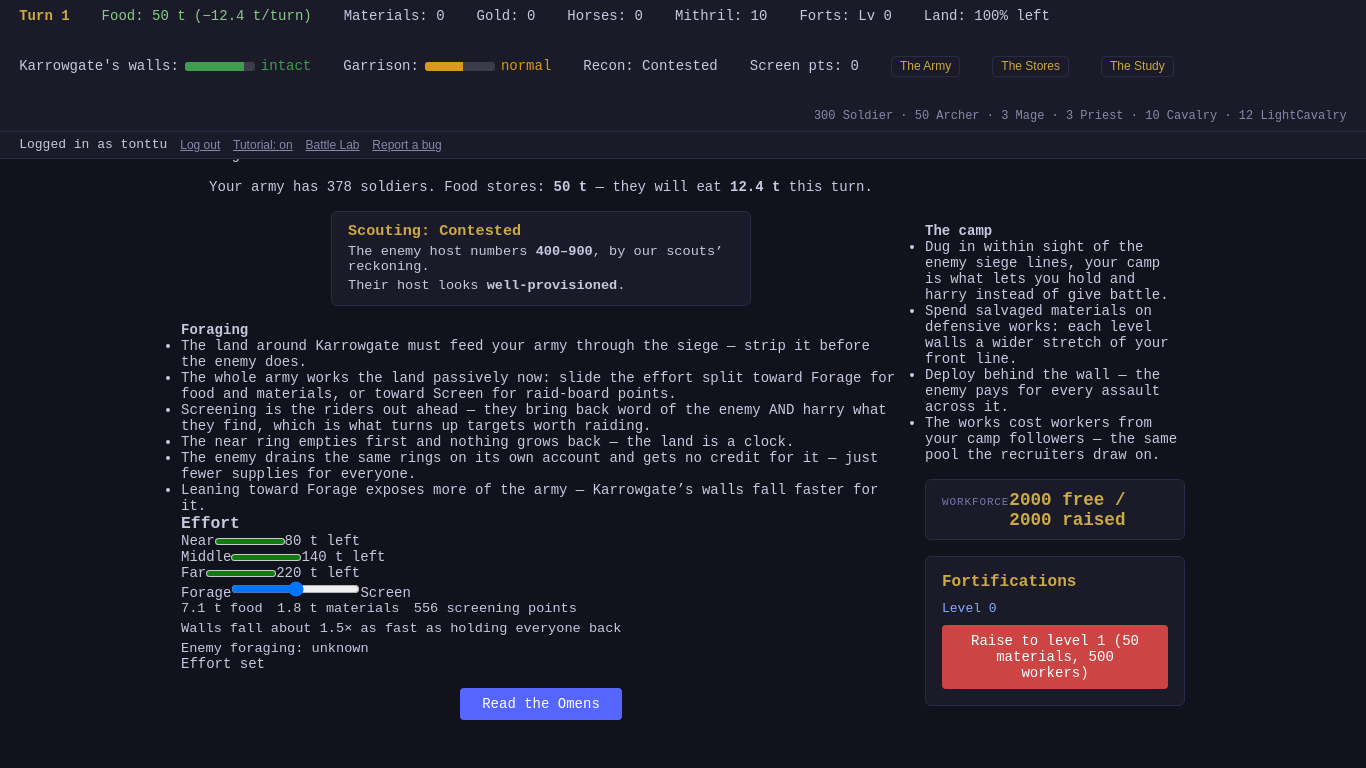
effort slider › falls back to a RELATIVE reading while Blind, leaking no threshold
(page scrolled)
expect the text with test id "effort-preview-breach" reads "Walls fall about 1.5× as fast as holding everyone back": met, box x1=181 y1=621 x2=622 y2=636
Step 1. Set the slider with test id "effort-slider" showing "Forage Screen" to "1" → {"x": 352, "y": 589}, box x1=231 y1=581 x2=360 y2=597
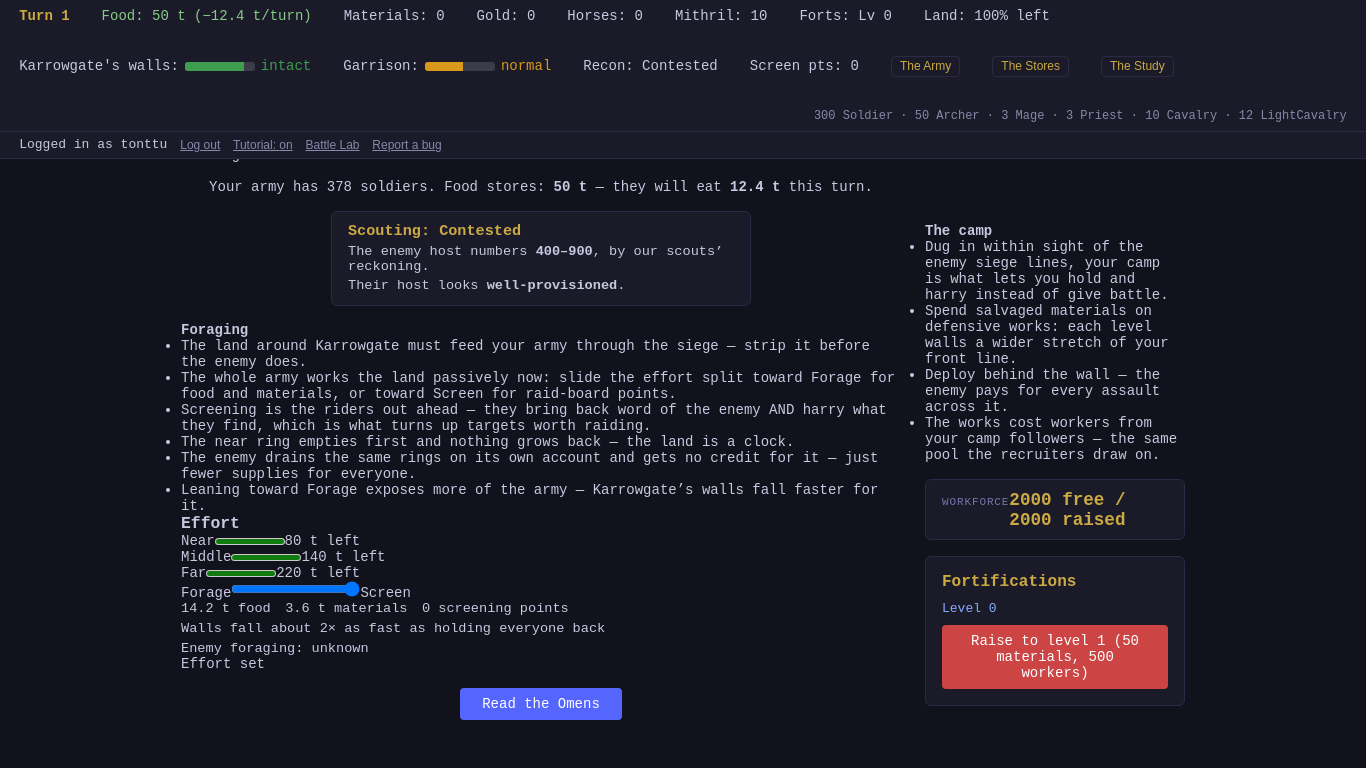
expect the text with test id "effort-preview-breach" shows "about 2× as fast": met, box x1=181 y1=621 x2=605 y2=636
Step 2. Set the slider with test id "effort-slider" showing "Forage Screen" to "0" → {"x": 239, "y": 589}, box x1=231 y1=581 x2=360 y2=597
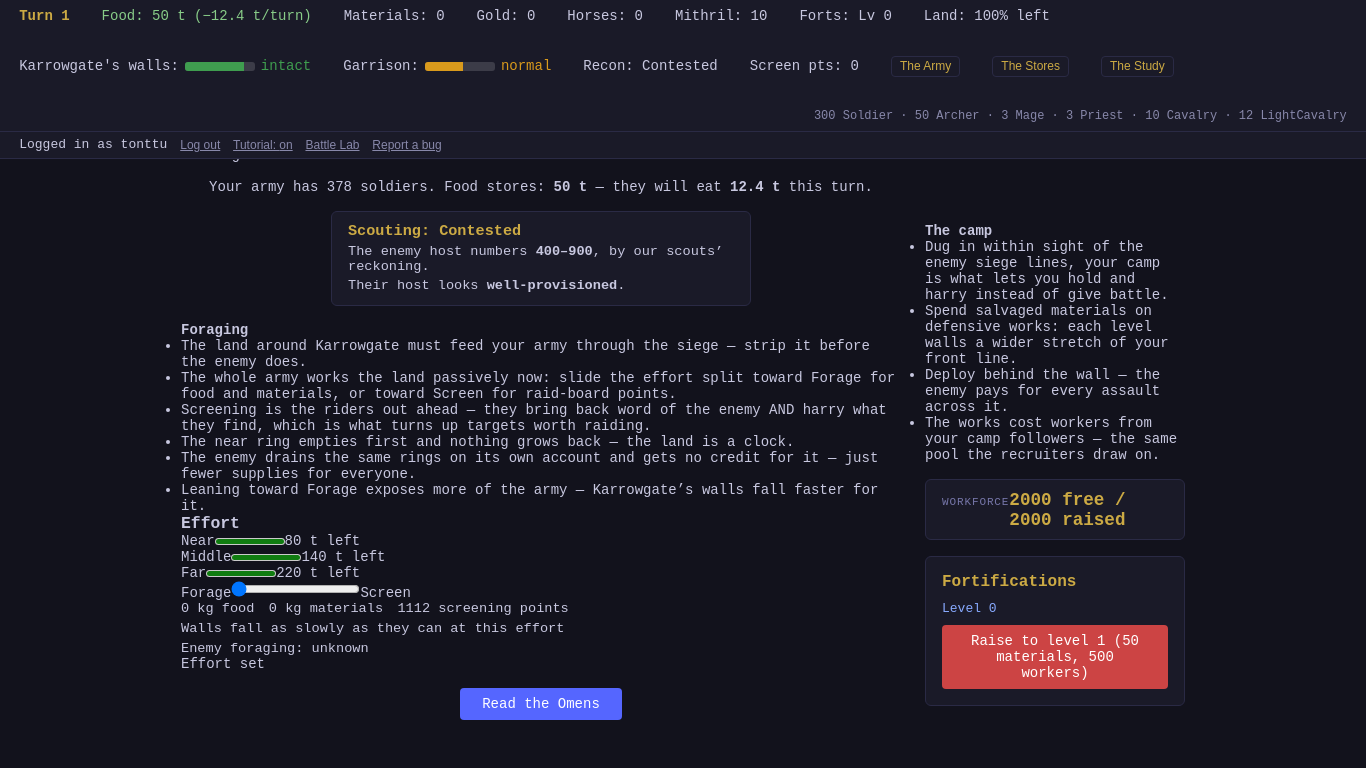
expect the text with test id "effort-preview-breach" reads "Walls fall as slowly as they can at this effort": met, box x1=181 y1=621 x2=564 y2=636
